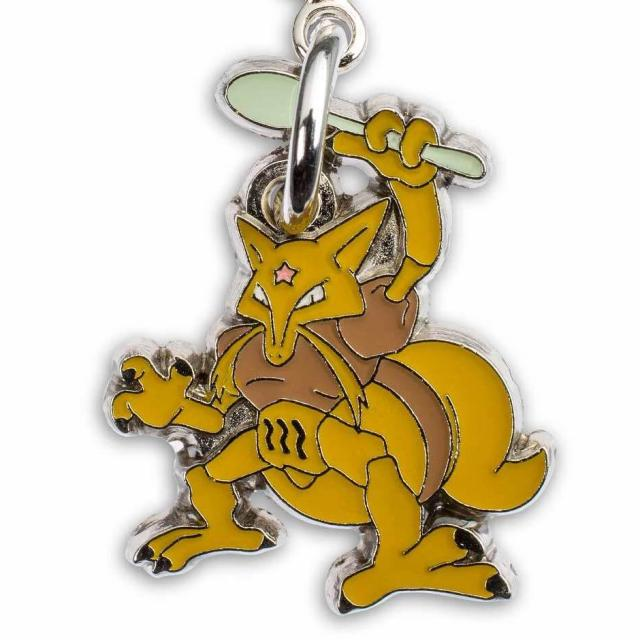Kadabra: (115, 110, 526, 594)
